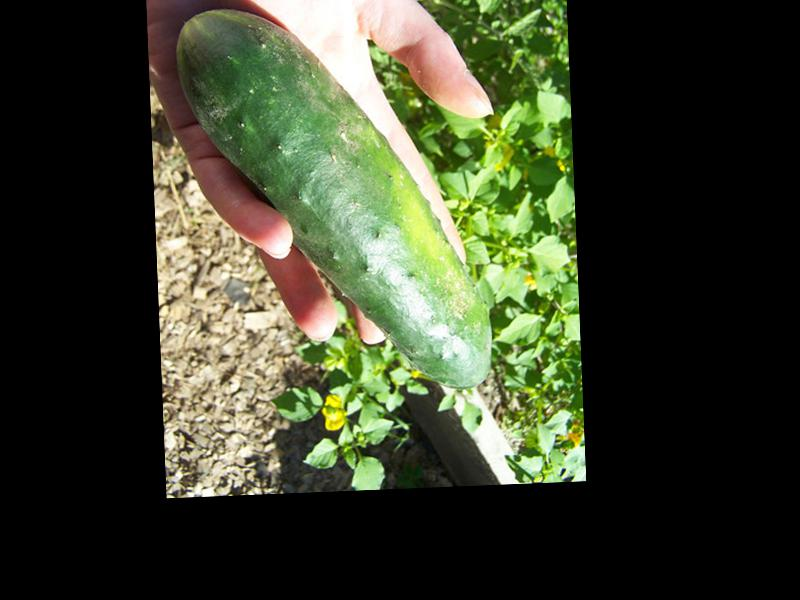Cucumber: (176, 0, 492, 401)
